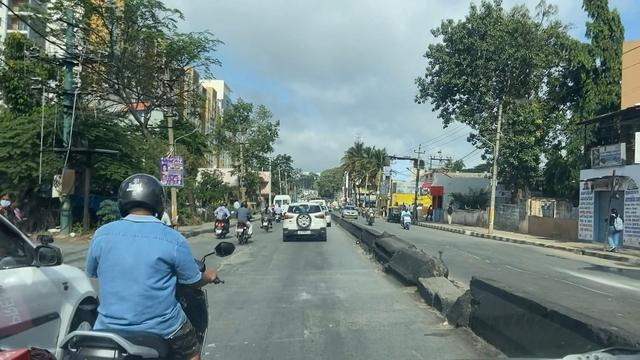LMV: (283, 201, 325, 240), (214, 197, 229, 236), (236, 200, 250, 240)
RoadDamages: (219, 245, 253, 272)
UnsurfacedRoad: (291, 273, 333, 345), (204, 339, 229, 356)
